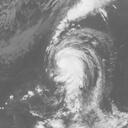cyclone: (51, 39, 90, 86)
